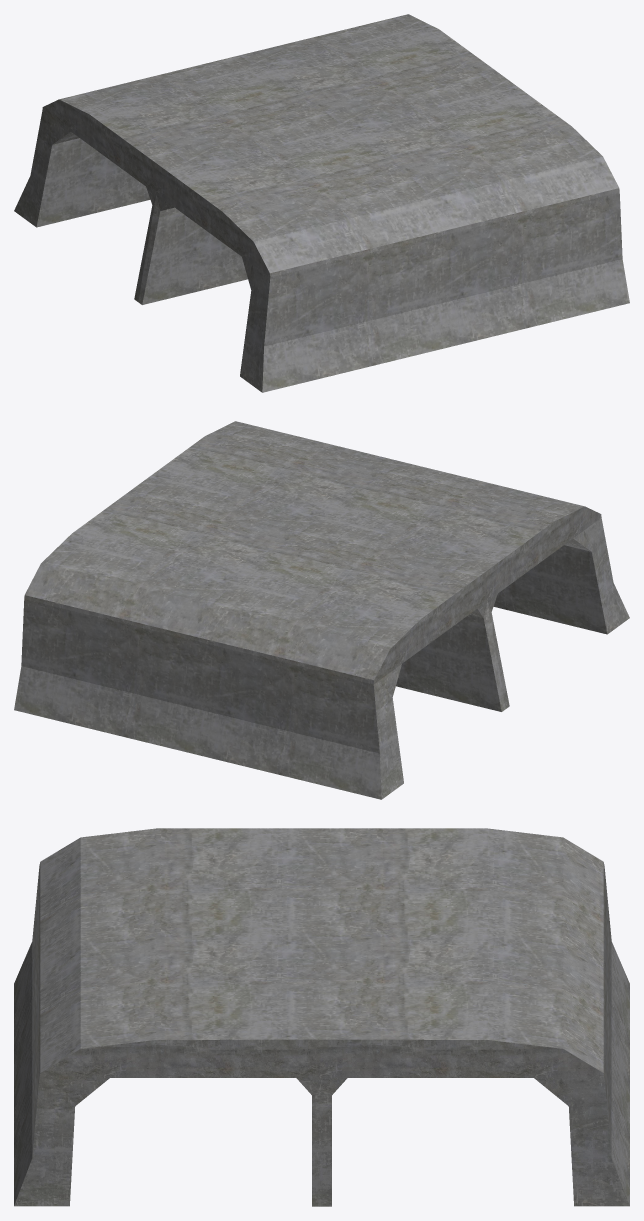
The model's file is tunnel.FBX.
3 renders of one model, top to bottom at view 1: azimuth 30°, elevation 25°; view 2: azimuth 150°, elevation 25°; view 3: azimuth 270°, elevation 25°, orthographic. The views are drawn at different scales.
Parts seen in each view (by area): view 1: Box001; view 2: Box001; view 3: Box001.
Boxes of the visible parts, x1,y1,x2,y2 form: Box001: [14, 14, 629, 392]; Box001: [14, 421, 629, 799]; Box001: [14, 828, 629, 1206].
Size of the model in its own units: 1804 by 631 by 2111.
1 material, 1 textured.
